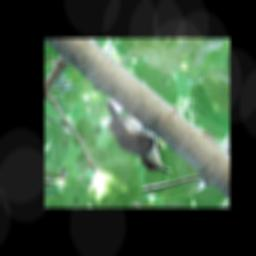Cuckoo: (104, 99, 172, 174)
